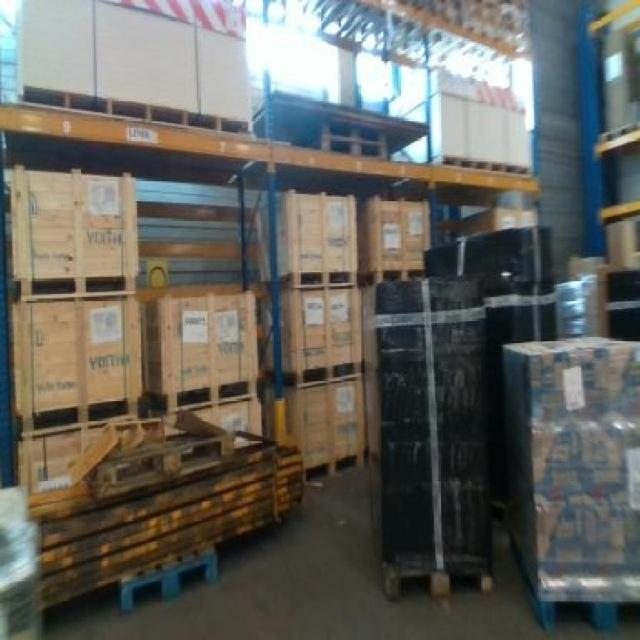pallets: (28, 442, 300, 606), (502, 335, 637, 623), (369, 277, 489, 594), (9, 165, 135, 295)
